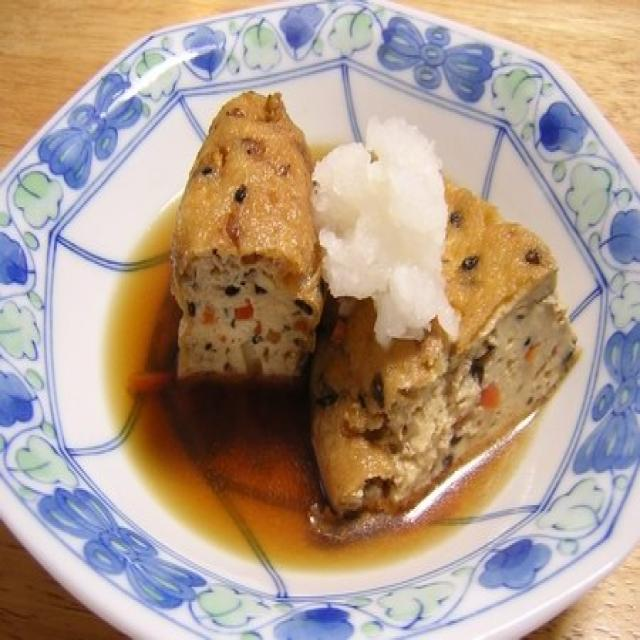熟制海鲜: (162, 91, 640, 640)
